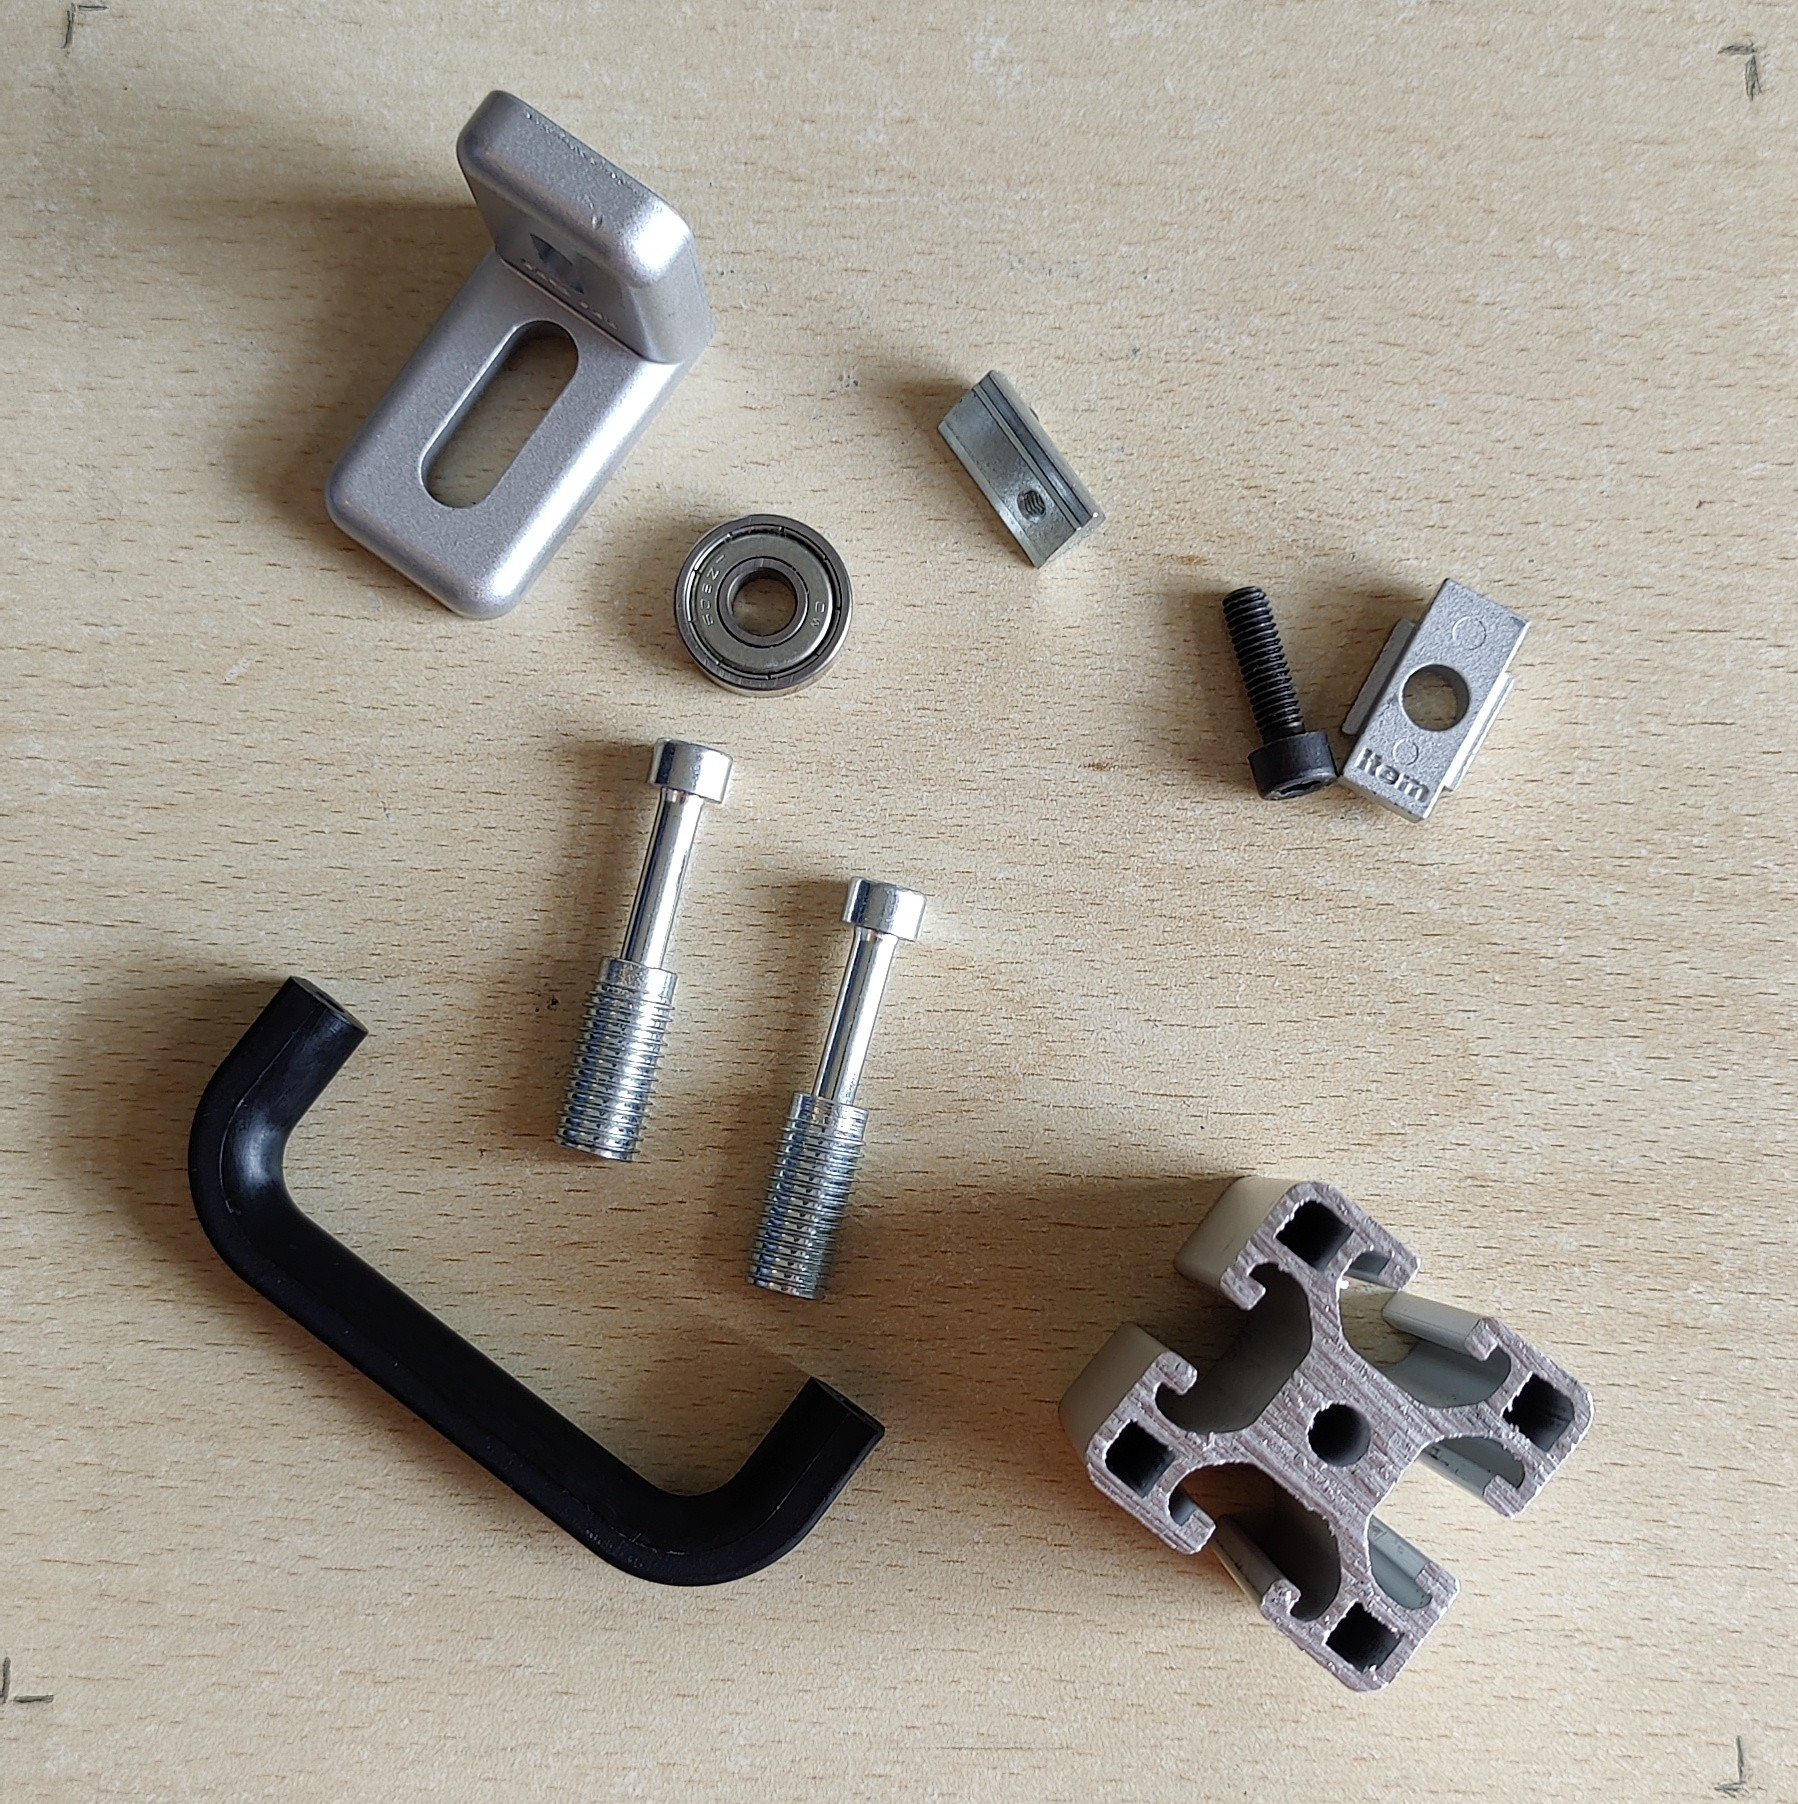Aluminium Extension: (1055, 1174, 1599, 1694)
Ball Bearing: (670, 510, 856, 700)
Multiwinkel: (321, 87, 713, 622)
Pull Handle: (183, 968, 889, 1588)
Shoulder Socket Head Cap Screw: (739, 876, 929, 1300), (552, 734, 736, 1164)
Socket Head Cap Screw: (1222, 583, 1335, 803)
T Nut Square: (1337, 573, 1533, 826)
T Spring Nut: (935, 367, 1111, 571)
